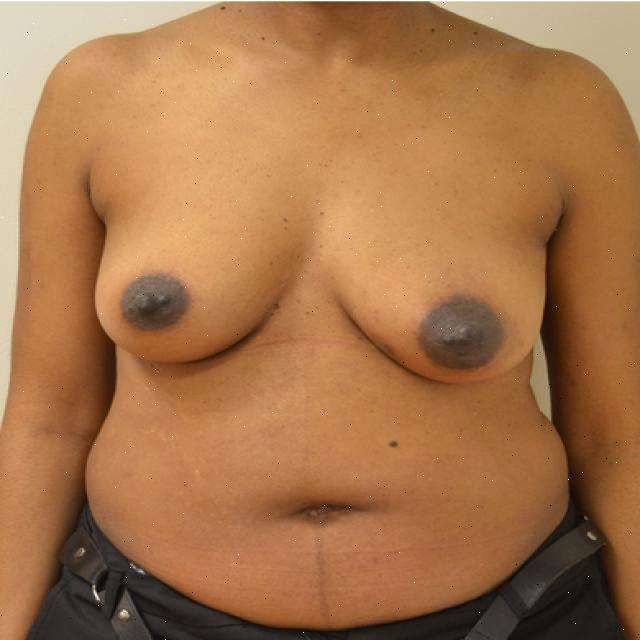Seno ileso: (326, 199, 555, 395), (86, 198, 296, 377)
